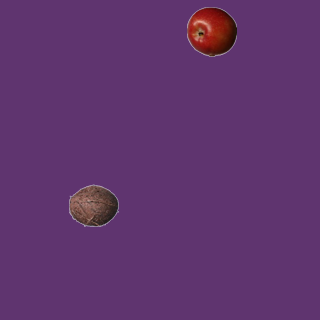Apple Braeburn: (186, 6, 236, 56)
Cocos: (68, 180, 118, 230)
